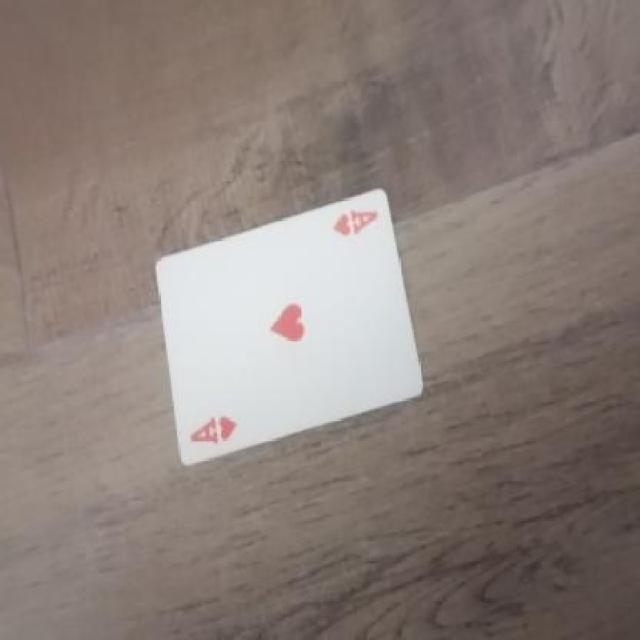AH: (187, 411, 245, 462), (328, 198, 392, 244)
